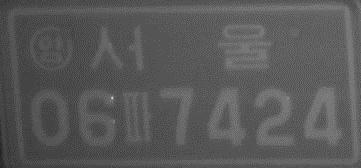0: (29, 88, 69, 148)
2: (251, 87, 293, 147)
4: (206, 85, 247, 147), (301, 86, 342, 145)
6: (77, 87, 116, 147)
7: (157, 85, 195, 146)
서울_D: (87, 23, 270, 75)
영: (29, 24, 74, 73)
파: (120, 90, 153, 144)
